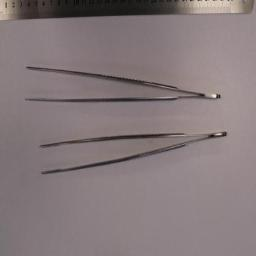DeBakey Dissector: (40, 132, 228, 176), (26, 68, 220, 102)
